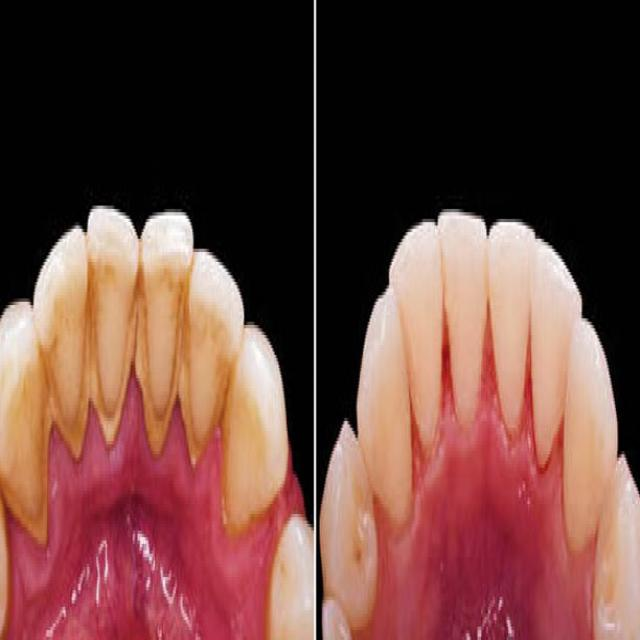caries: (349, 521, 365, 585)
